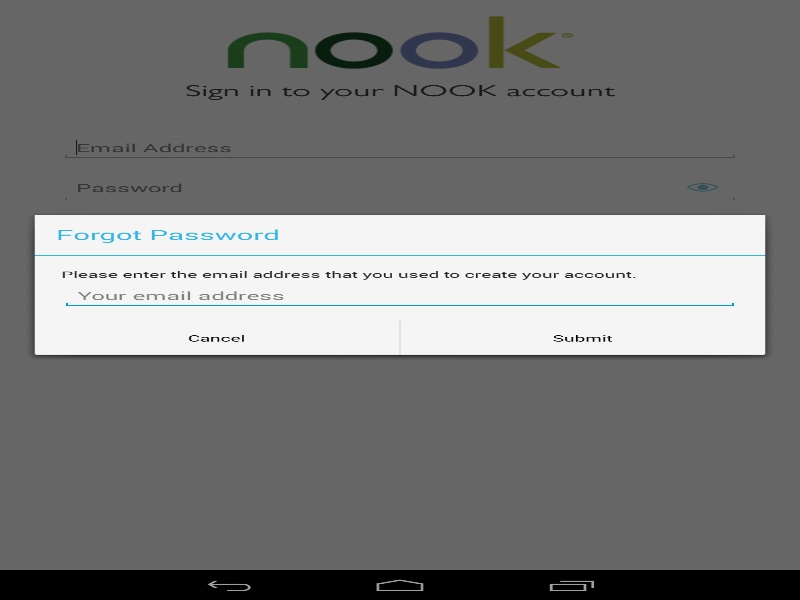Button: (34, 321, 399, 355), (400, 321, 765, 355)
Input: (61, 283, 738, 308)
